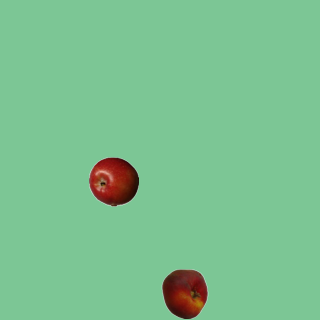Apple Braeburn: (88, 156, 138, 206)
Nectarine Flat: (159, 268, 209, 318)
